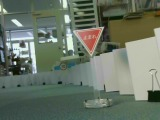stop: (72, 26, 104, 58)
